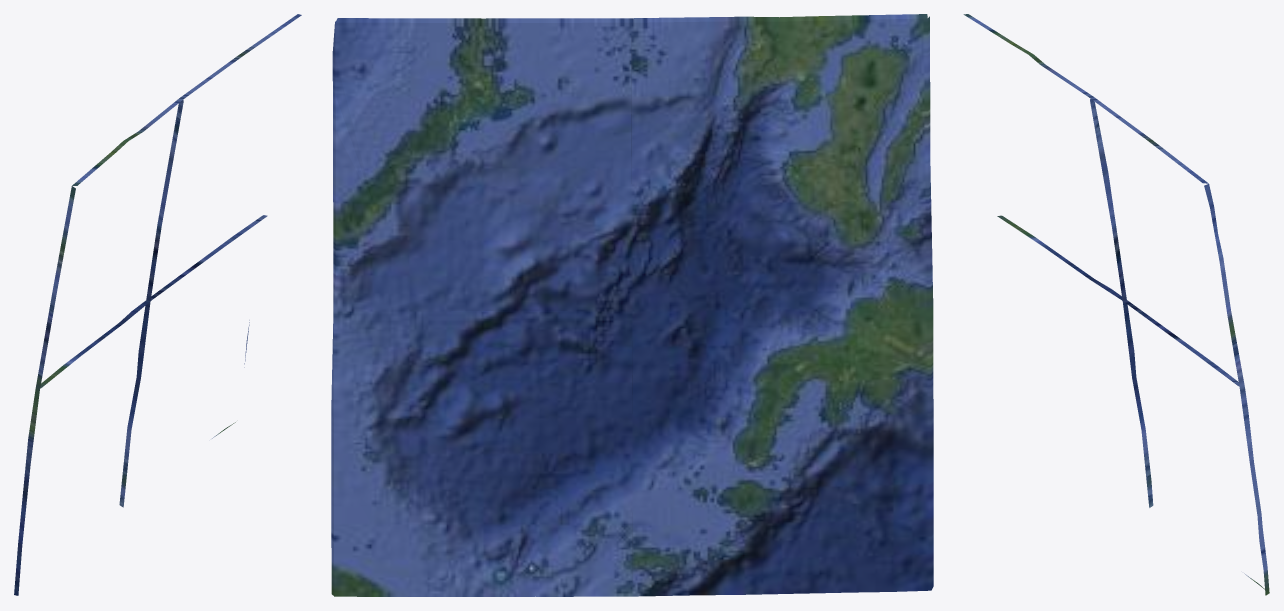
3 views of the same model, side by side, from view 1: azimuth 30°, elevation 25°; view 2: azimuth 150°, elevation 25°; view 3: azimuth 270°, elevation 25° (orthographic). The views are drawn at different scales.
Bounding box in the file's own units: 580641 × 624140 × 405555.
1 material, 1 textured.
